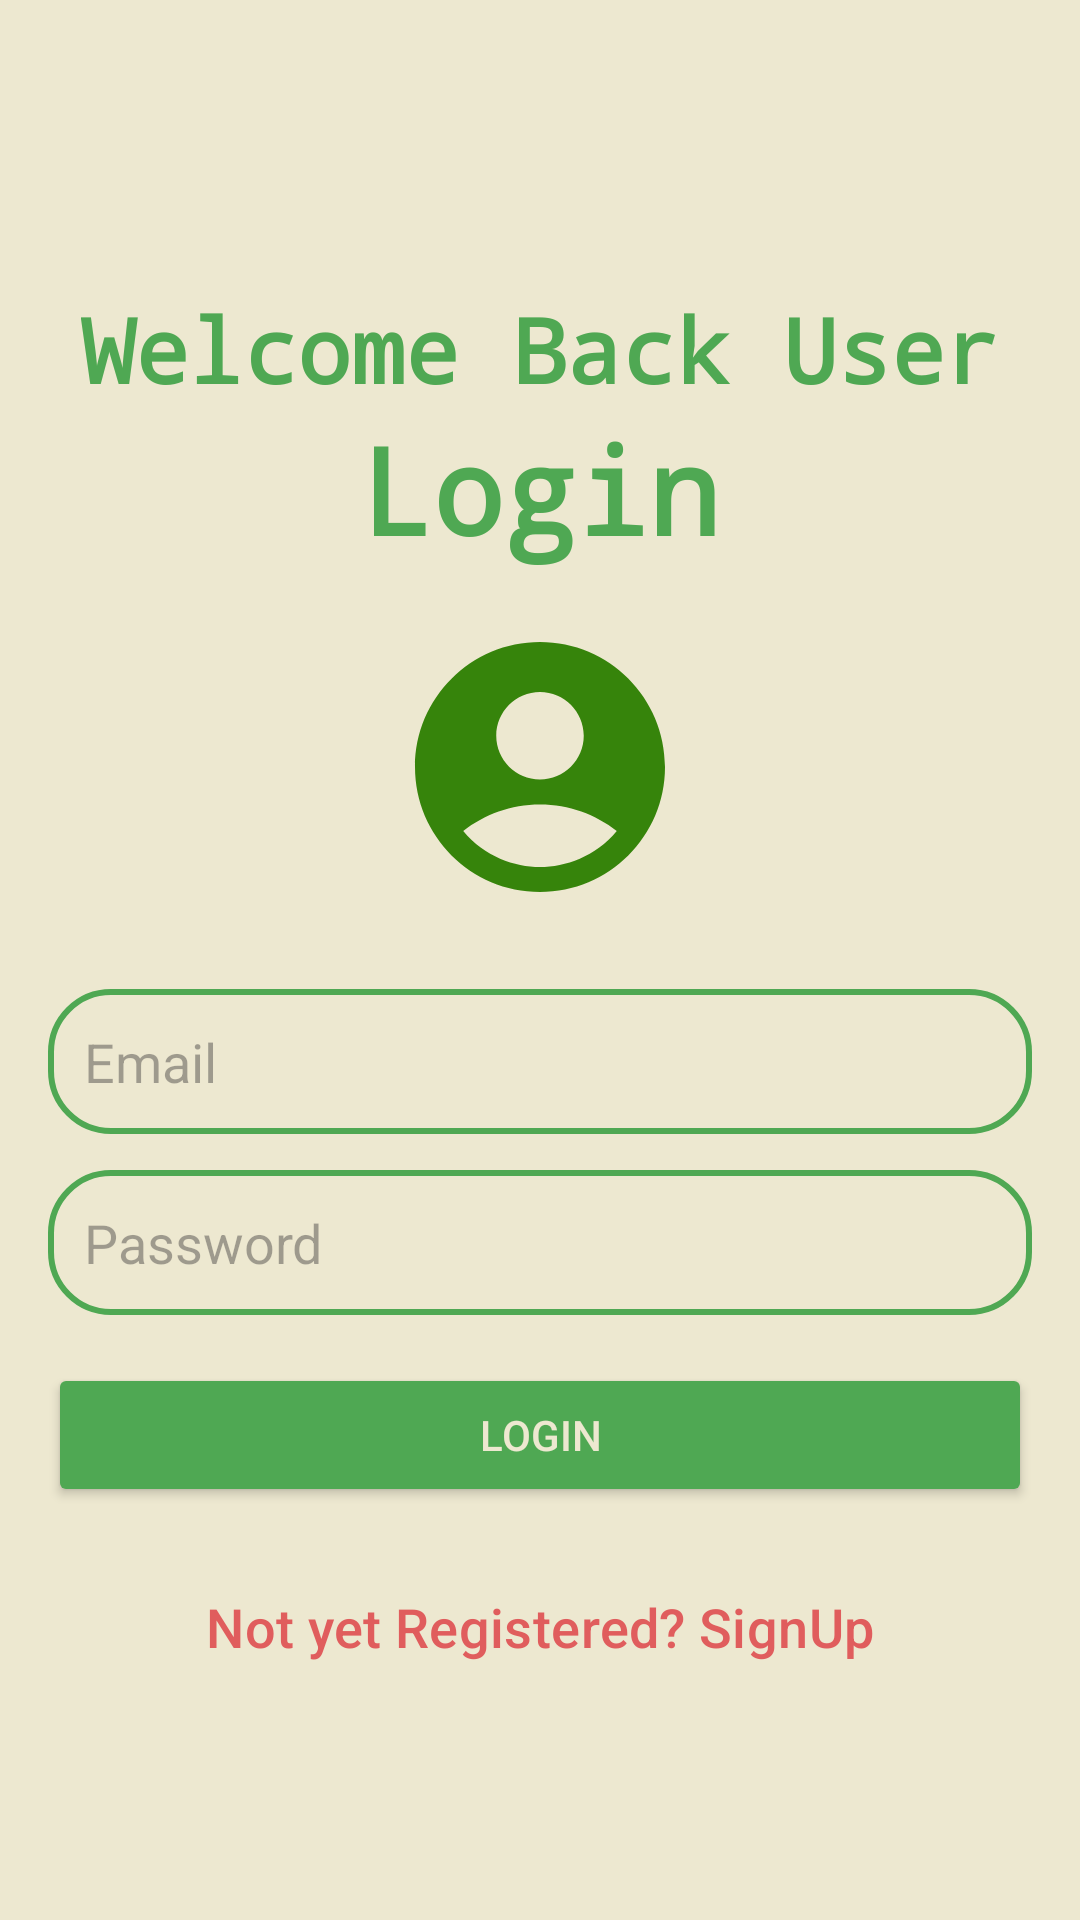

Icon bounding boxes for this 1080px×1920px phone screenshot, format (x1, y1, x2, y2):
account circle: (415, 642, 665, 892)
